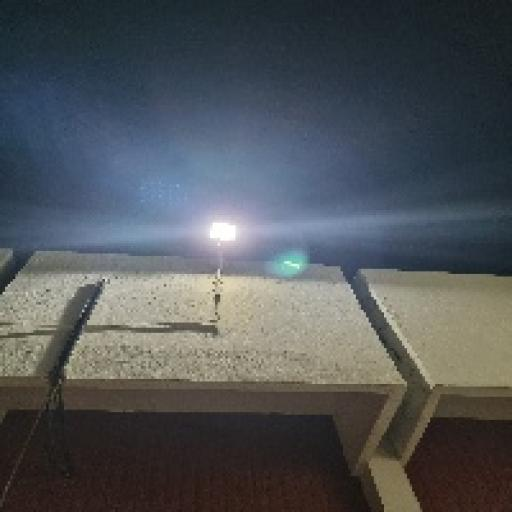Working: (202, 217, 242, 253)
